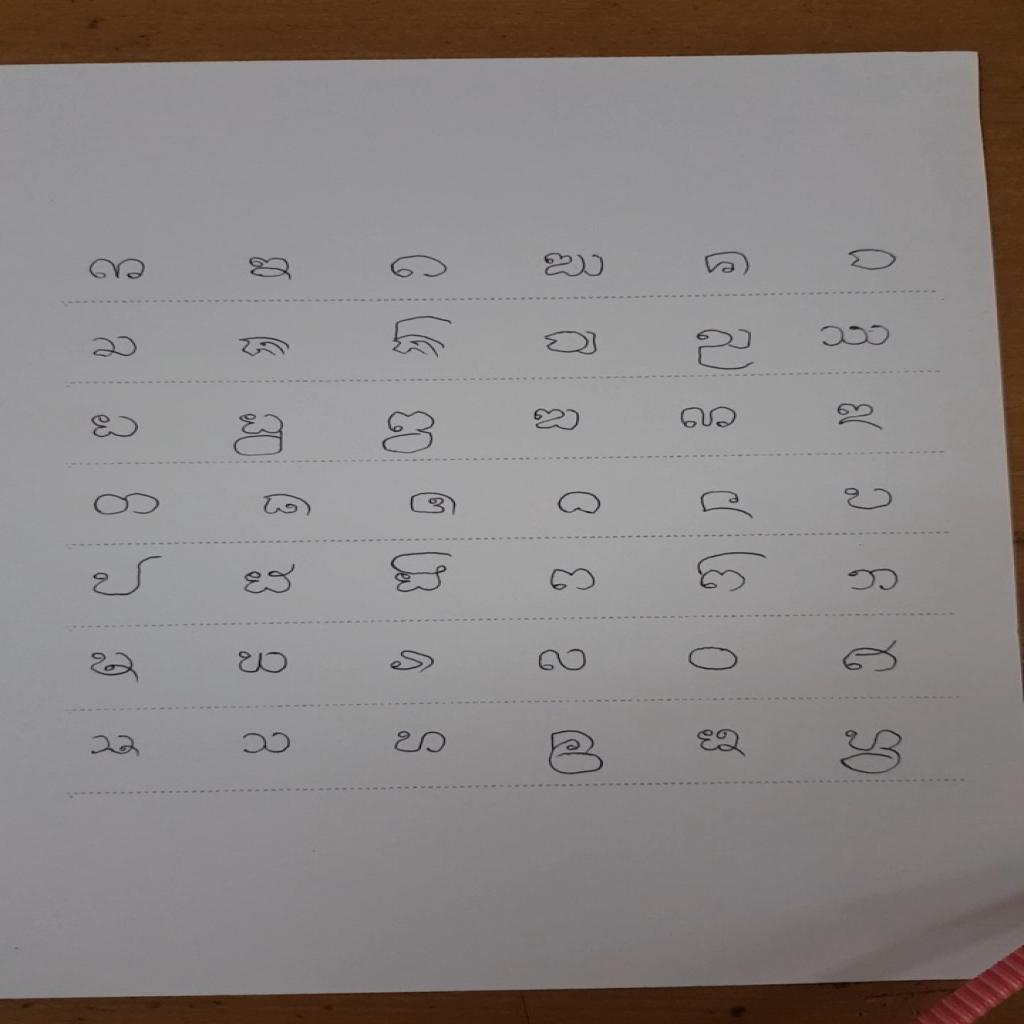LN001: (84, 254, 153, 285)
LN002: (245, 254, 297, 284)
LN003: (386, 254, 454, 281)
LN004: (540, 251, 612, 281)
LN005: (699, 249, 755, 280)
LN006: (842, 247, 902, 275)
LN007: (89, 334, 144, 361)
LN008: (234, 334, 296, 363)
LN009: (389, 314, 457, 362)
LN010: (539, 328, 603, 359)
LN011: (693, 325, 759, 373)
LN012: (815, 322, 896, 351)
LN013: (86, 411, 144, 442)
LN014: (229, 411, 291, 460)
LN015: (378, 409, 441, 457)
LN016: (529, 406, 585, 435)
LN017: (674, 405, 744, 433)
LN018: (830, 401, 887, 433)
LN019: (89, 490, 166, 519)
LN020: (257, 492, 317, 519)
LN021: (405, 489, 461, 518)
LN022: (555, 490, 608, 518)
LN023: (694, 487, 758, 522)
LN024: (839, 484, 900, 514)
LN025: (88, 554, 168, 601)
LN026: (239, 561, 300, 599)
LN027: (386, 550, 455, 598)
LN028: (545, 566, 600, 595)
LN029: (691, 550, 772, 596)
LN030: (842, 565, 907, 596)
LN031: (84, 647, 145, 686)
LN032: (230, 648, 297, 679)
LN033: (382, 647, 442, 676)
LN034: (533, 646, 592, 676)
LN035: (683, 644, 744, 674)
LN036: (837, 638, 904, 677)
LN037: (85, 732, 147, 761)
LN038: (236, 729, 298, 758)
LN039: (387, 728, 455, 758)
LN040: (541, 727, 610, 778)
LN041: (691, 725, 751, 760)
LN042: (836, 727, 908, 778)
